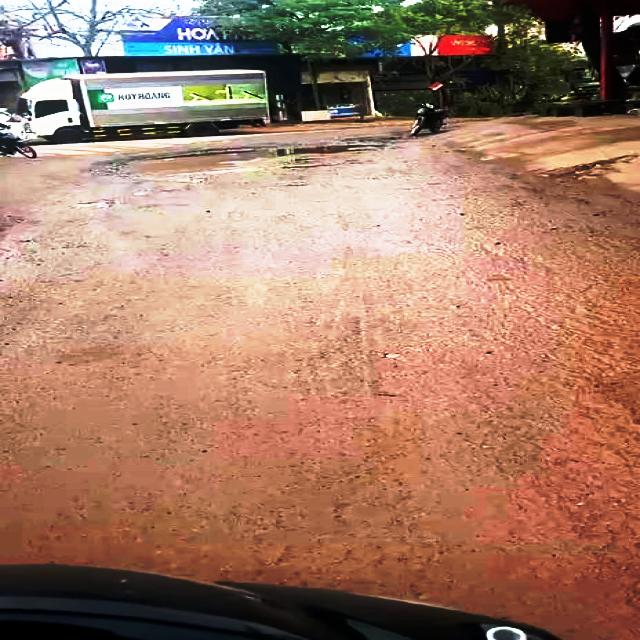pothole: (106, 138, 395, 179)
